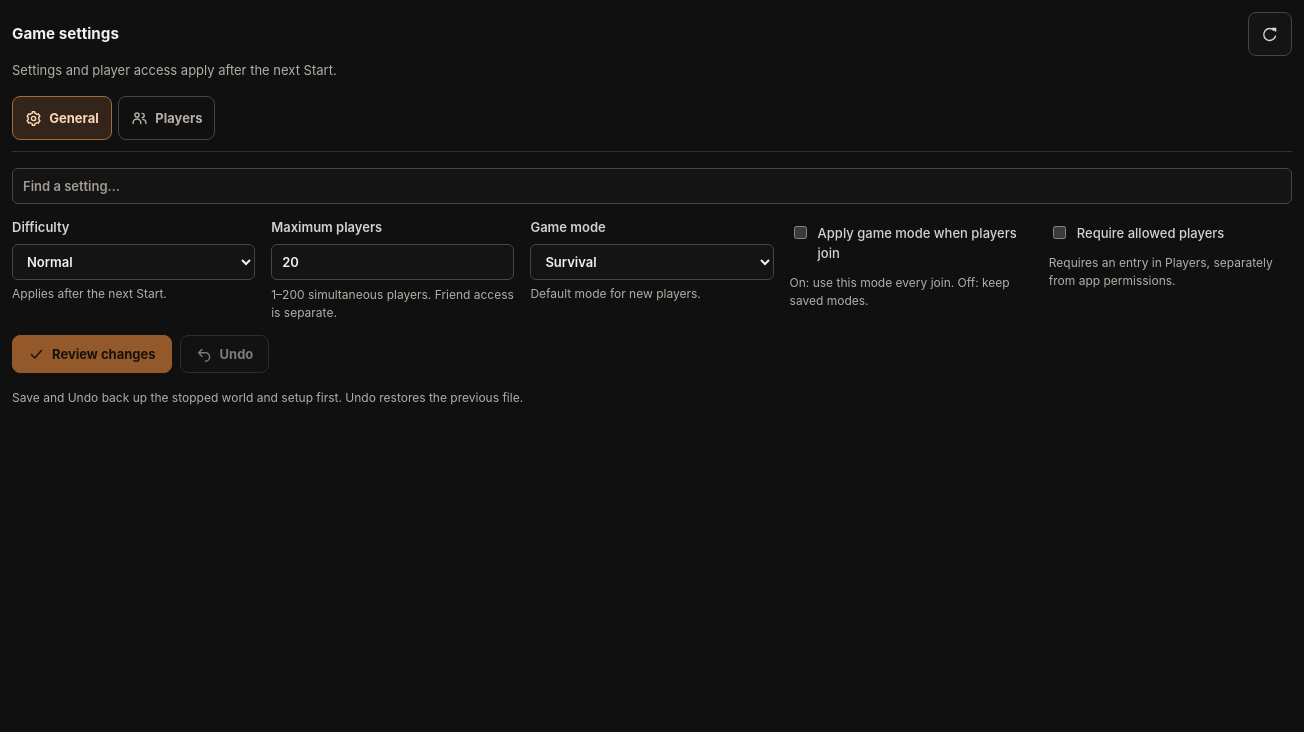
Test: preserves a player draft across tabs and rejects a duplicate Bedrock name without a request
The width and height of the screenshot is (1304, 732).
Click the button "Players".
click(167, 118)  # box [118, 96, 216, 140]
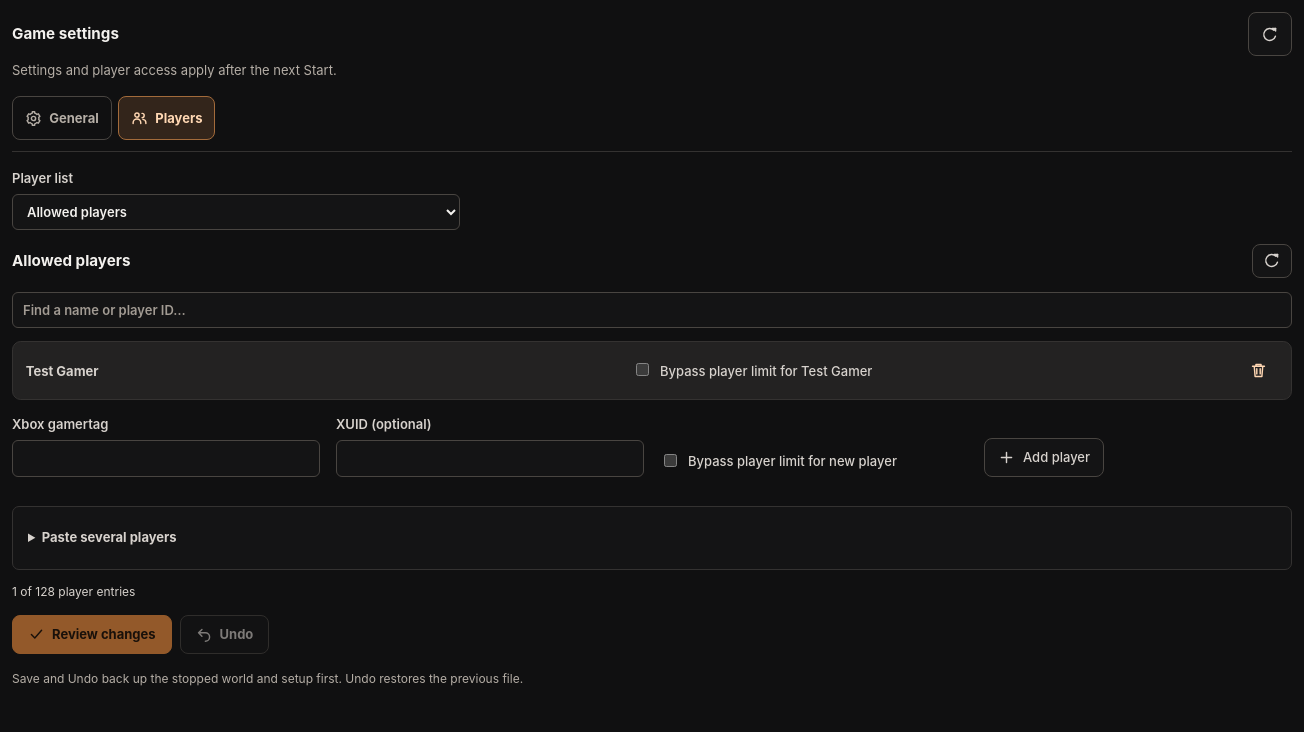
expect the dropdown labelled "Player list" is enabled: met, box [12, 194, 460, 230]
Type "test gamer" into the field labelled "Xbox gamertag".
click(166, 458); type("test gamer")  # box [12, 440, 320, 476]
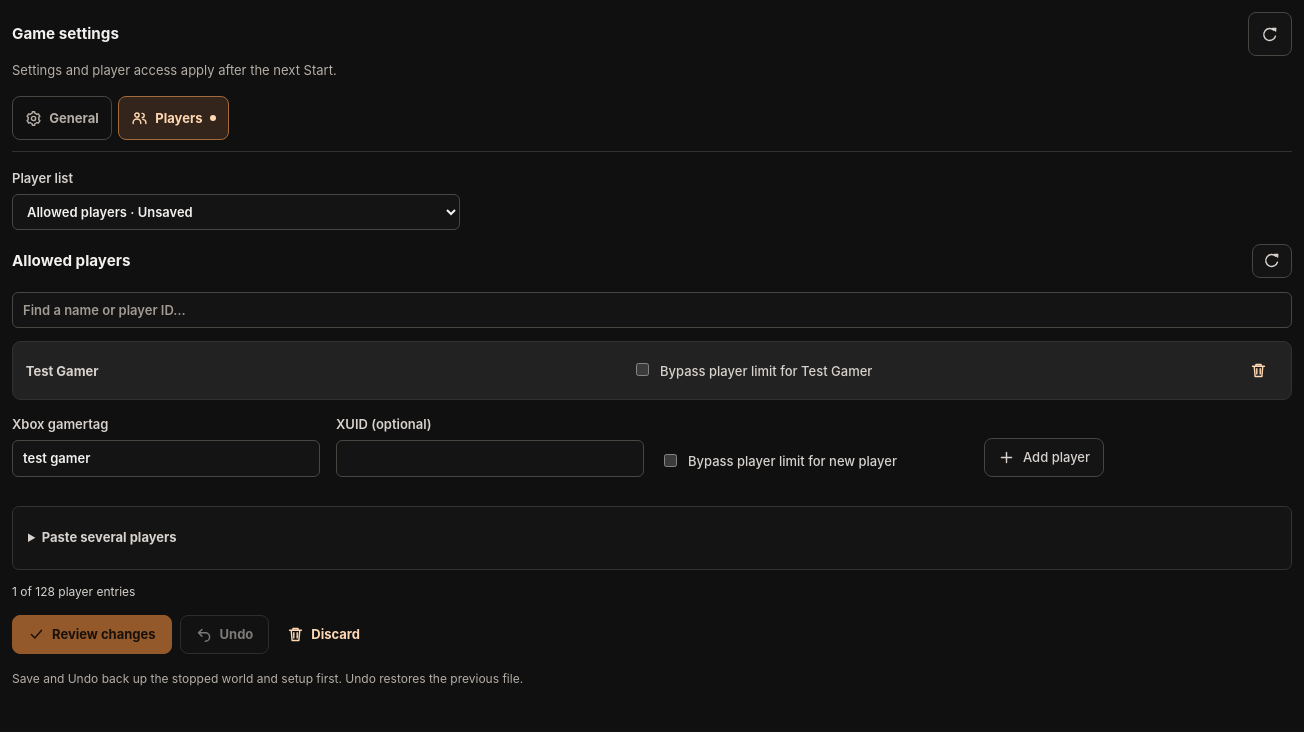
Click the button "Add player".
click(1044, 457)  # box [984, 438, 1104, 476]
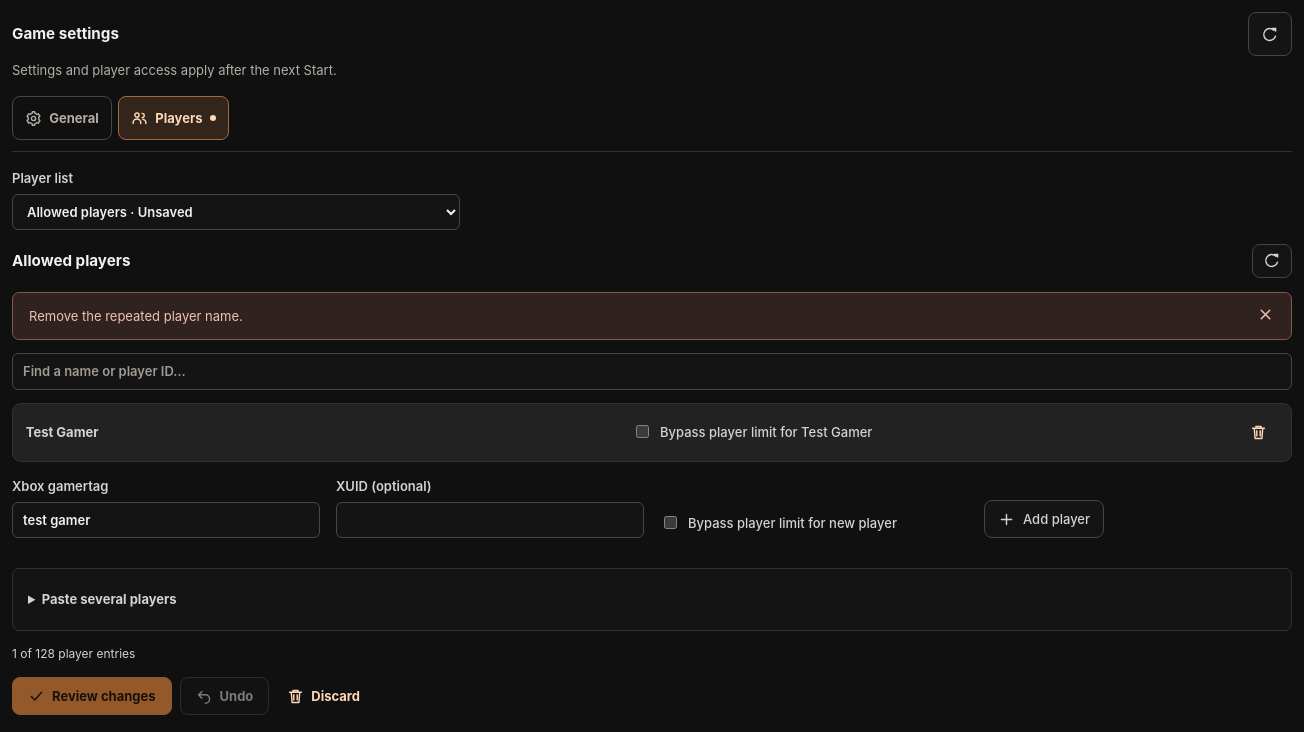
expect the text "Remove the repeated player name." is shown: met, box [12, 292, 1292, 340]
Click the button named "Remove Test Gamer".
click(1258, 432)  # box [1238, 415, 1278, 450]
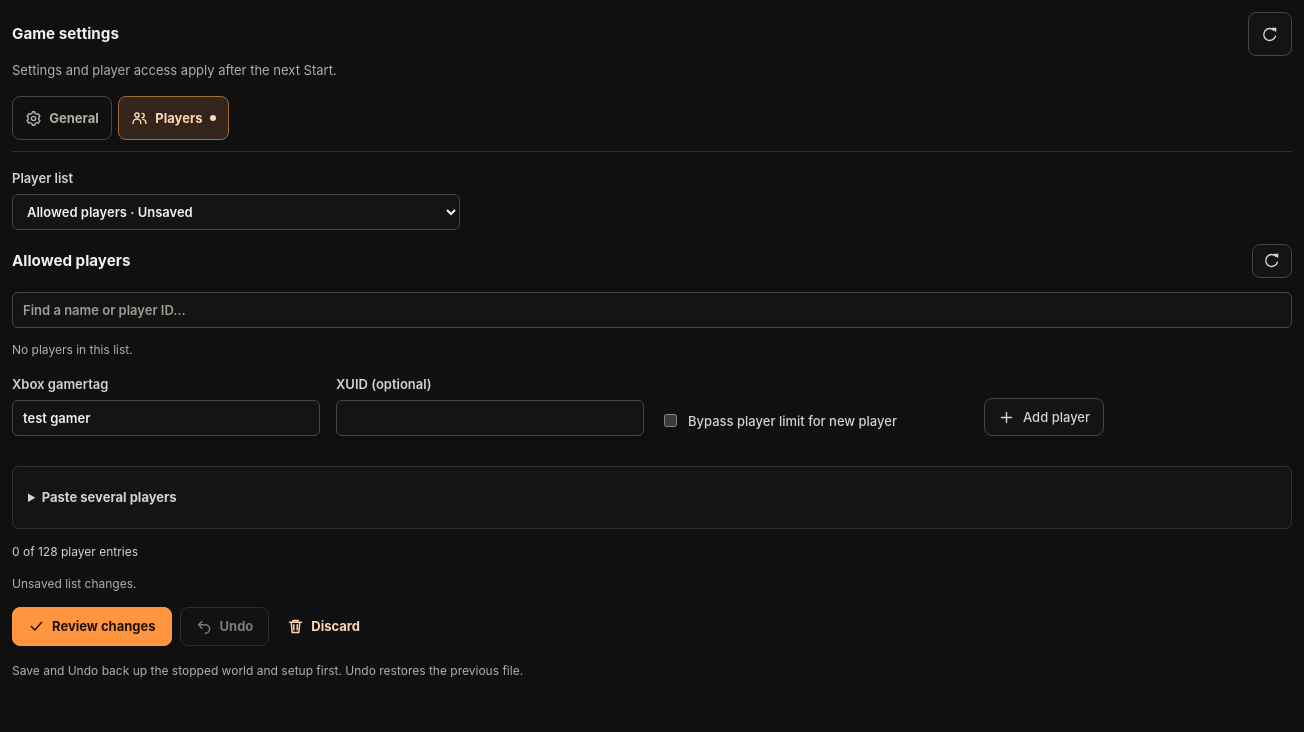
Click the button "General".
click(62, 118)  # box [12, 96, 112, 140]
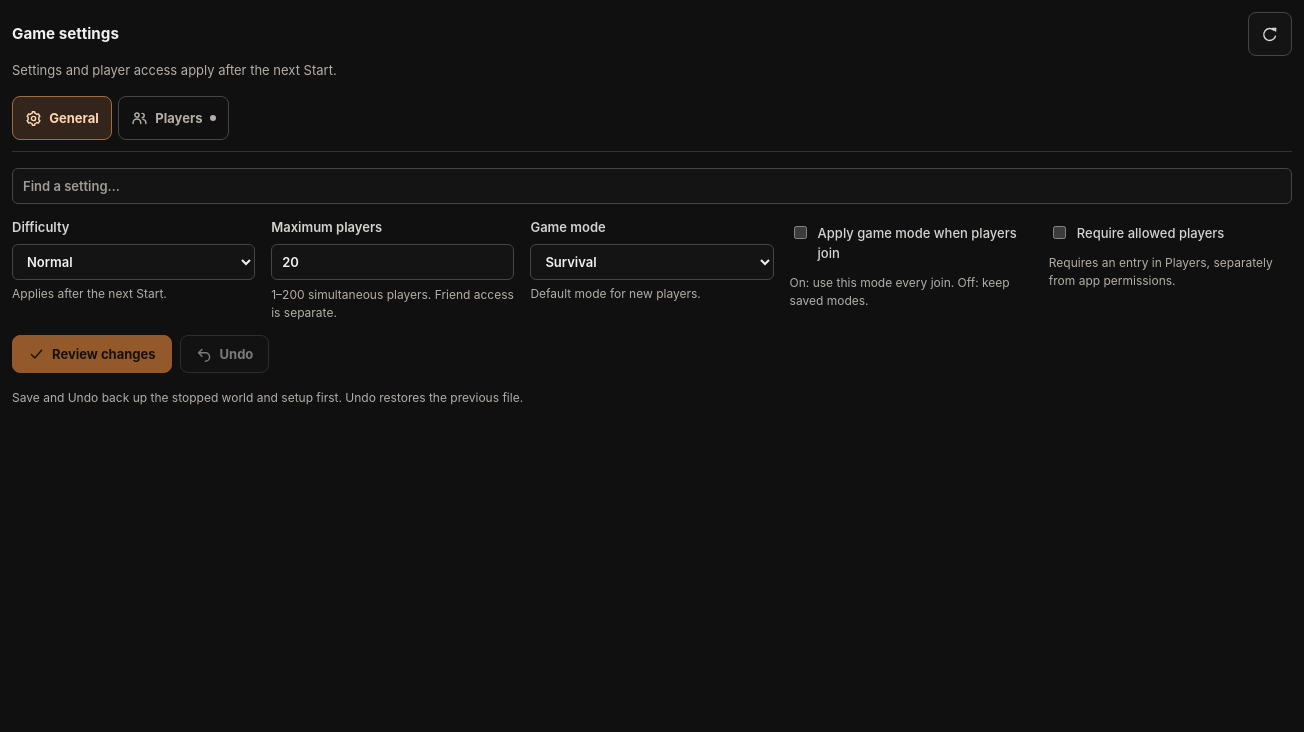
Click the button "Players".
click(174, 118)  # box [118, 96, 229, 140]
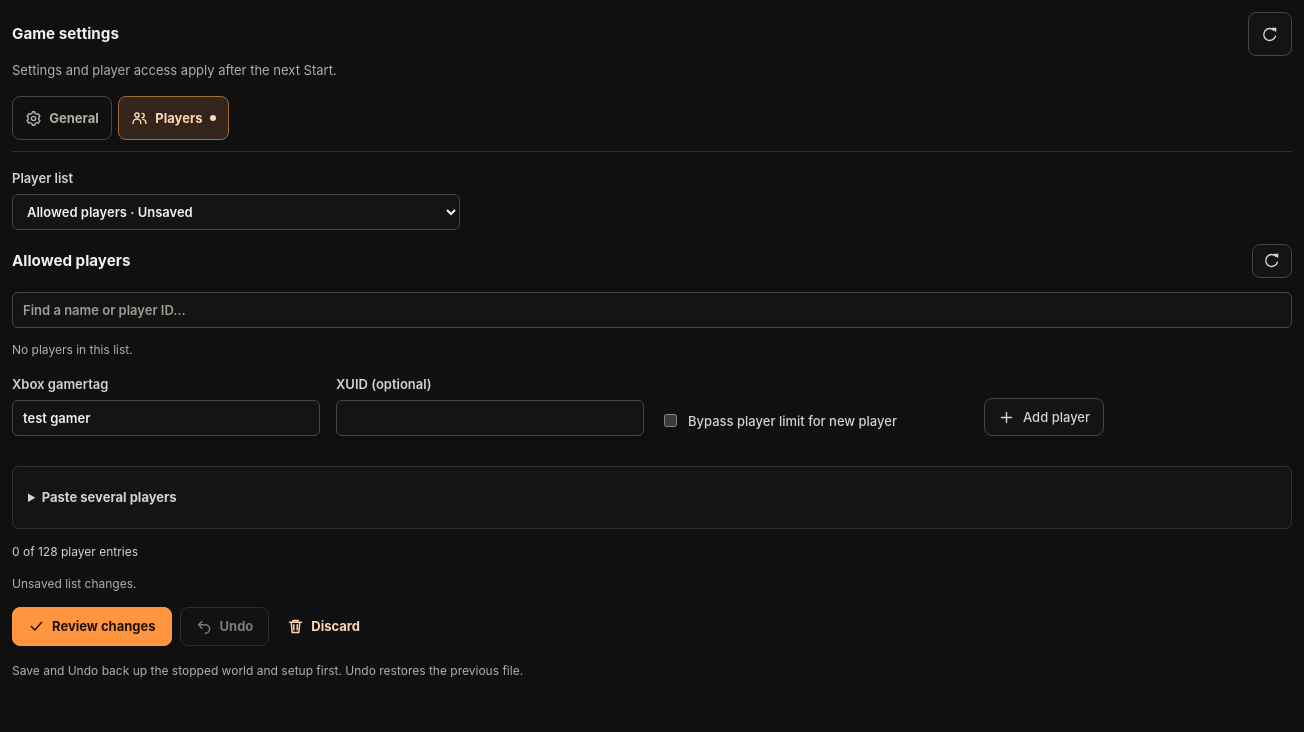
expect the dropdown labelled "Player list" is enabled: met, box [12, 194, 460, 230]
expect the text "No players in this list." is shown: met, box [12, 342, 133, 357]
expect the button with aria-label "Review list changes" is enabled: met, box [12, 607, 172, 646]
